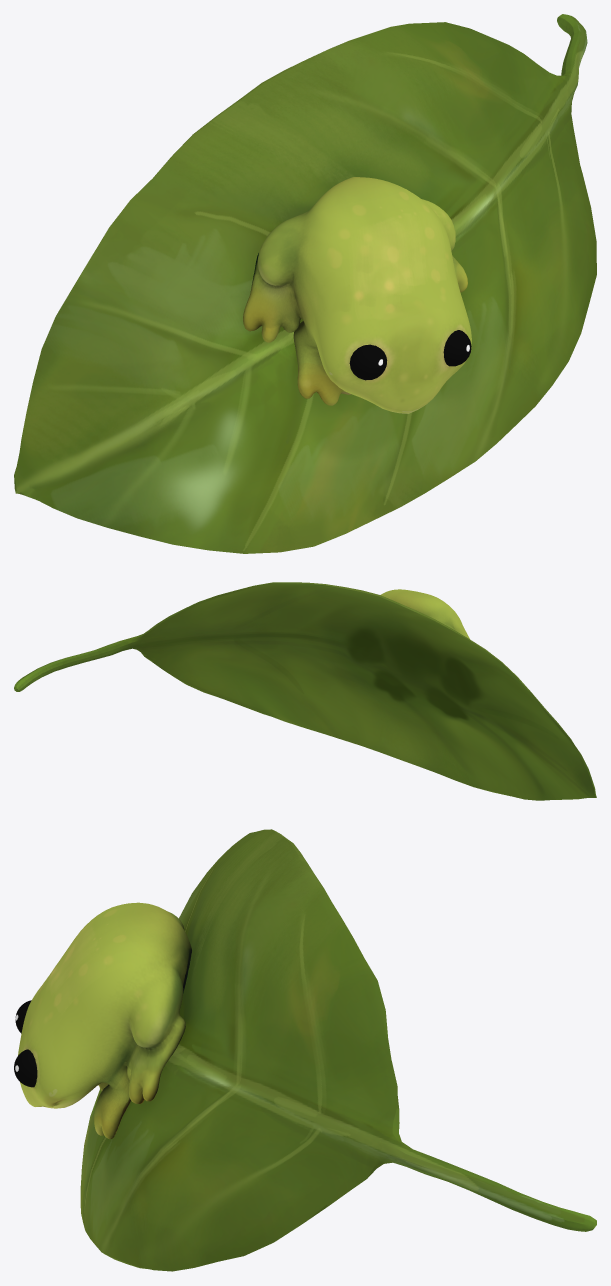
Rendered from slide-3-3.glb.
3 renders of one model, top to bottom at view 1: azimuth 30°, elevation 25°; view 2: azimuth 150°, elevation 25°; view 3: azimuth 270°, elevation 25°, orthographic. The views are drawn at different scales.
Parts seen in each view (by area): view 1: GeometryNode_3_0, GeometryNode_16_0, GeometryNode_3_1, GeometryNode_16_1; view 2: GeometryNode_3_0, GeometryNode_16_0, GeometryNode_3_1; view 3: GeometryNode_3_0, GeometryNode_16_0, GeometryNode_16_1, GeometryNode_3_1.
Boxes of the visible parts, left/top/right/bottom form: GeometryNode_3_0: left=14, top=14, right=596, bottom=553; GeometryNode_16_0: left=243, top=177, right=471, bottom=413; GeometryNode_3_1: left=29, top=17, right=586, bottom=544; GeometryNode_16_1: left=250, top=177, right=466, bottom=398; GeometryNode_3_0: left=14, top=582, right=596, bottom=800; GeometryNode_16_0: left=380, top=589, right=469, bottom=638; GeometryNode_3_1: left=14, top=604, right=592, bottom=797; GeometryNode_3_0: left=80, top=829, right=596, bottom=1271; GeometryNode_16_0: left=14, top=902, right=191, bottom=1139; GeometryNode_16_1: left=24, top=903, right=185, bottom=1137; GeometryNode_3_1: left=82, top=1088, right=594, bottom=1222.
Size of the model in its own units: 8.5 by 4.12 by 5.54.
Materials: 2 (2 with a texture image).
